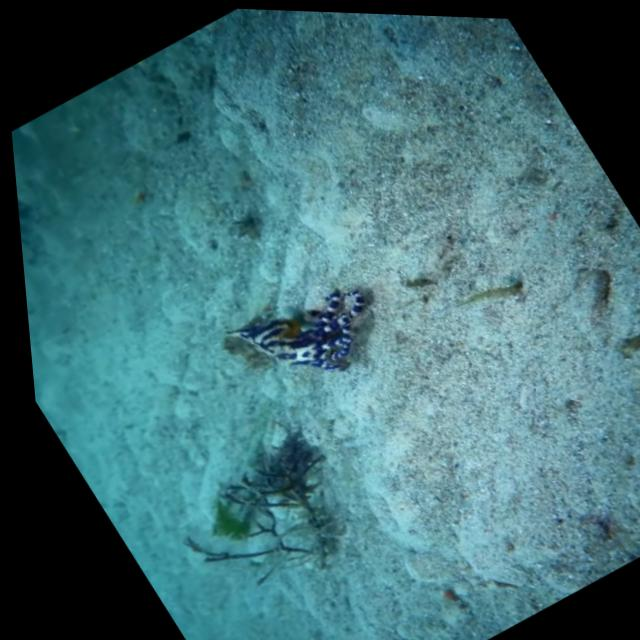blue_ringed_octopus: (209, 251, 398, 414)
